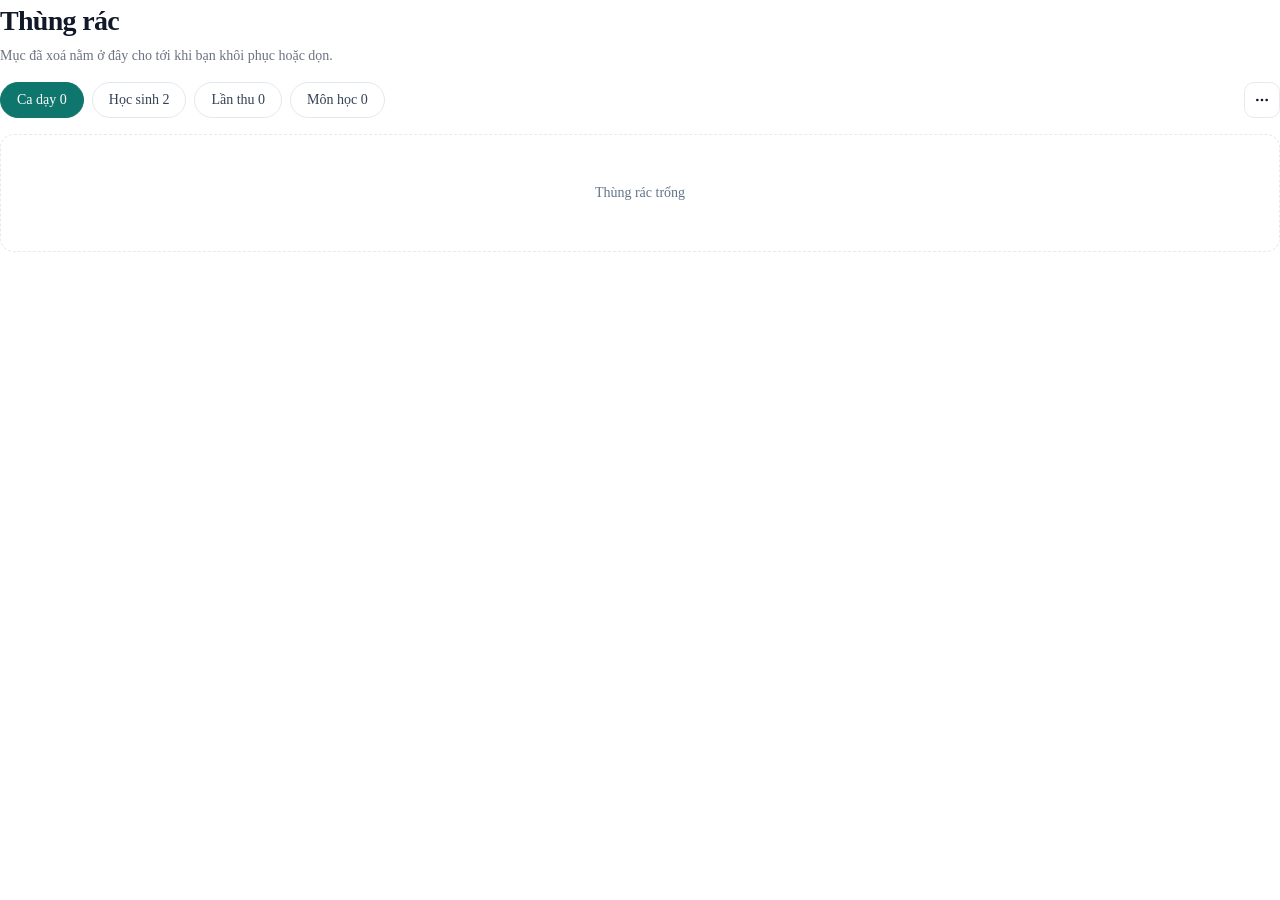
it: TrashList › tab Học sinh: popup có dòng tiền vẫn giữ trong Báo cáo
Click the tab "Học sinh 2": point(139, 100) [92, 82, 186, 118]
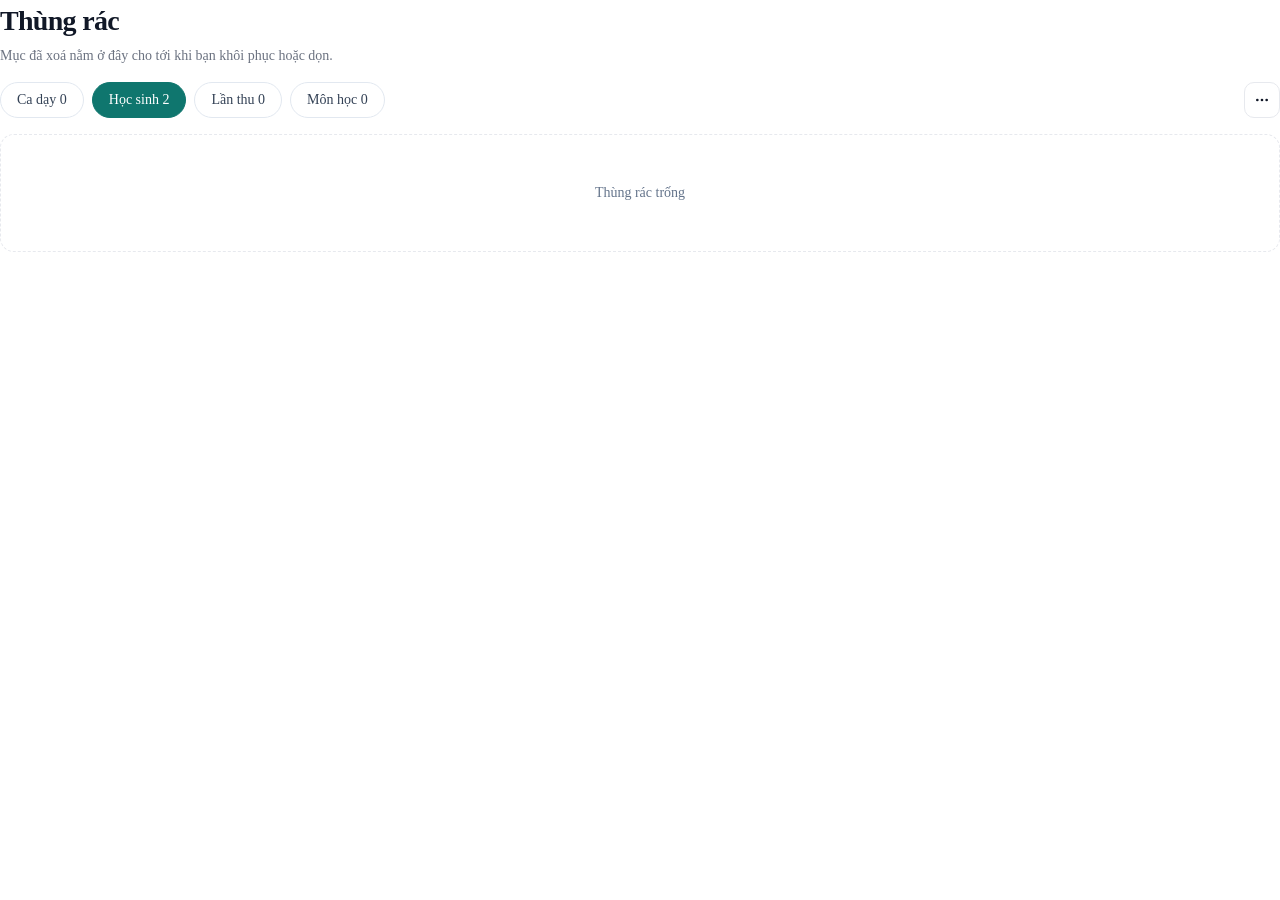
Press Enter in the button named "Thêm thao tác", box [1244, 82, 1279, 118]
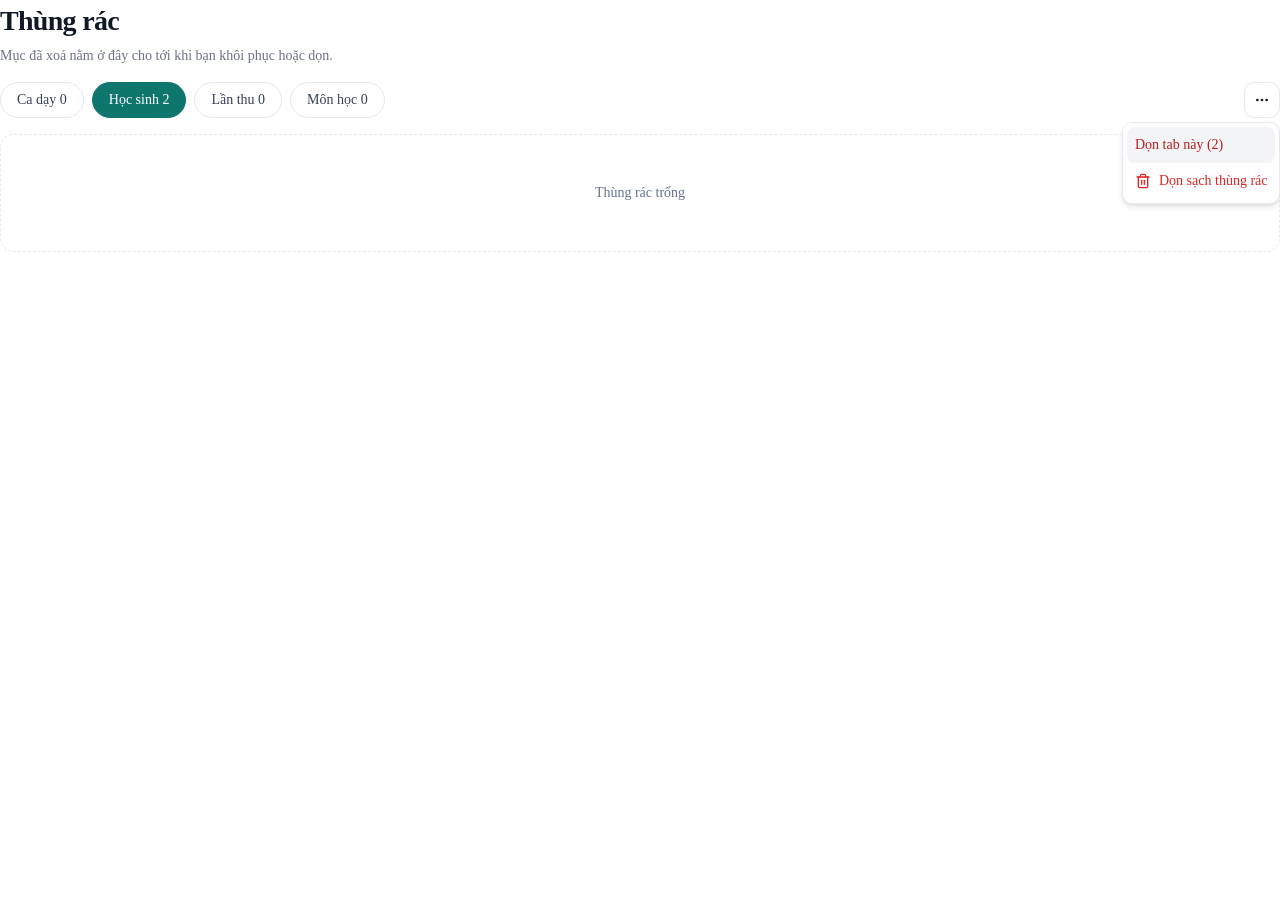
Click the menu item "Dọn tab này (2)": point(1201, 145) [1127, 127, 1276, 163]
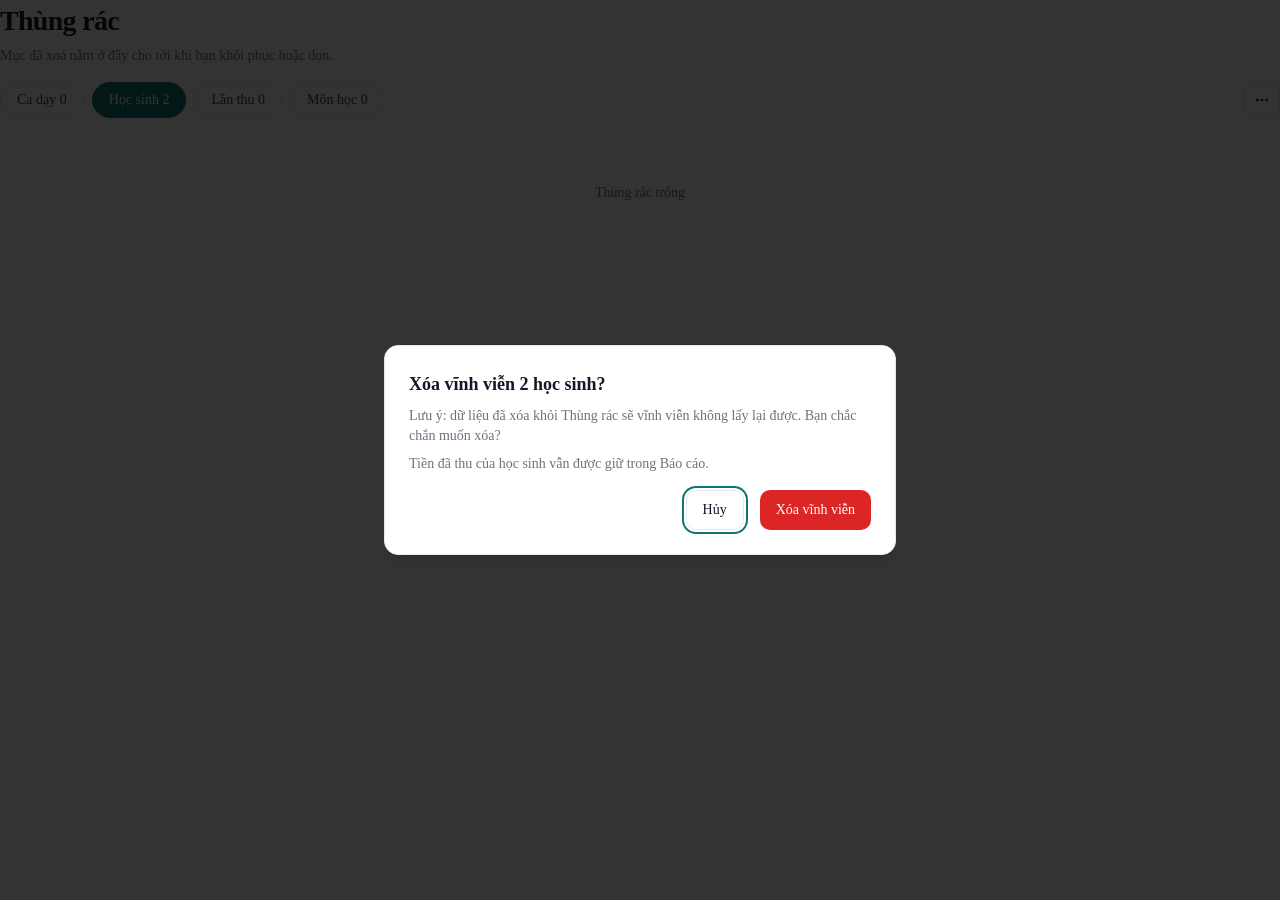
Result: the text "Tiền đã thu của học sinh vẫn được giữ trong Báo cáo." is shown at [409, 456, 709, 471]
